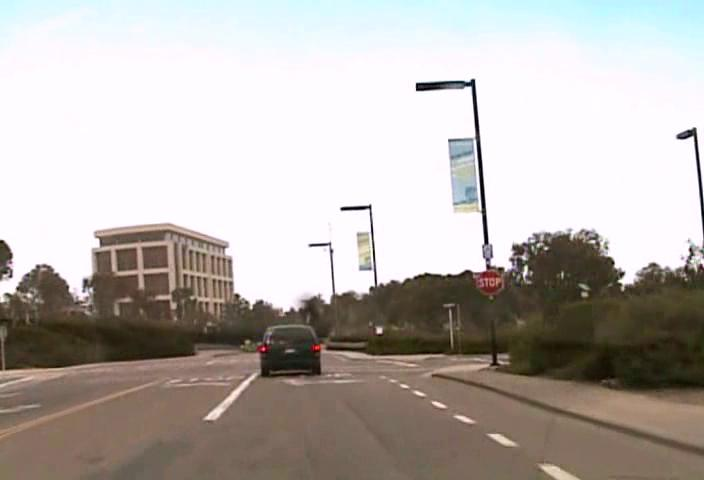stop: (475, 269, 503, 295)
